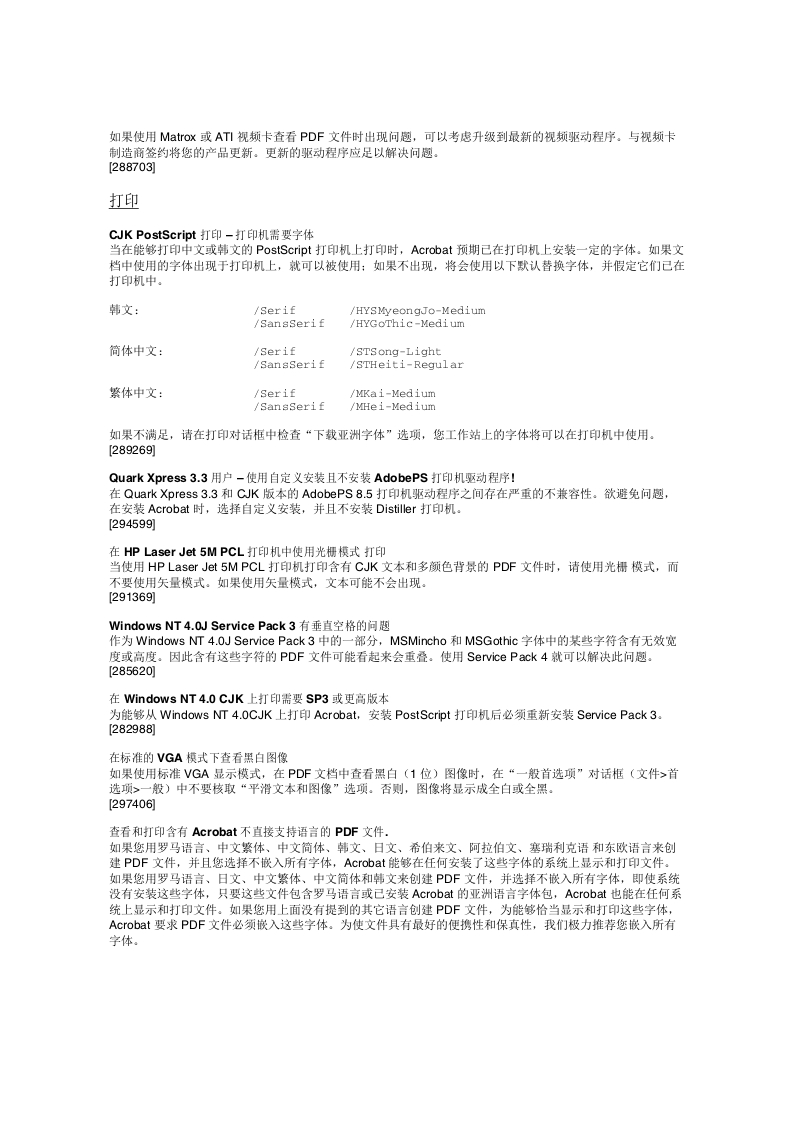table: (109, 304, 485, 411)
